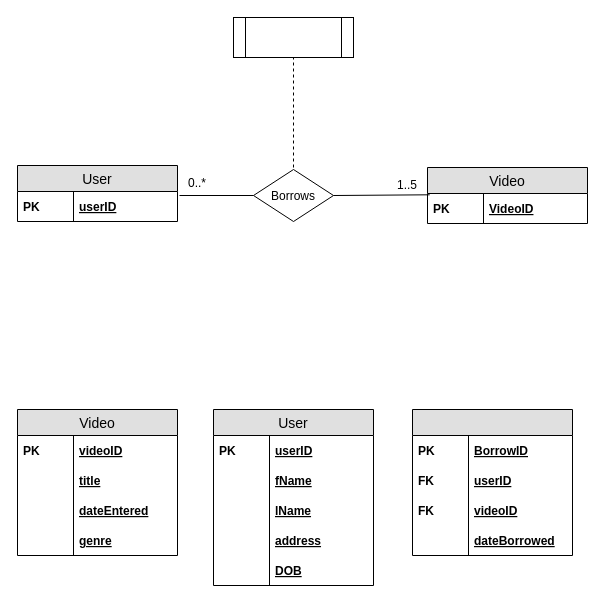
The diagram is 605 pixels wide and 603 high, and some of its shapes have lost their labels. Here are the shapes that lost their labels. From the top down, the box of each, then its label:
(232, 16, 354, 58): Video Store
(412, 408, 572, 556): BorrowInfo
